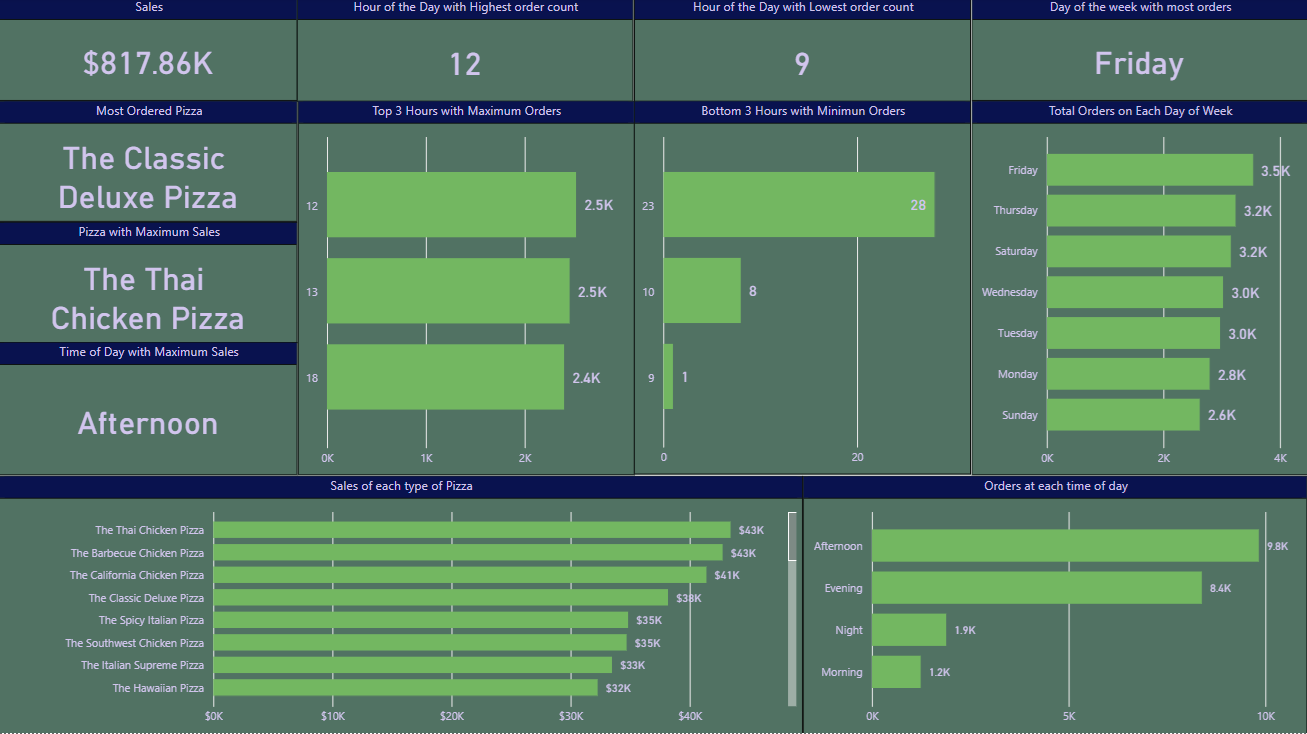

The dashboard page shown, as its layout file describes it:
{"tool":"powerbi","page":{"name":"Sales Analysis of Pizza","canvas":[1280,720],"ordinal":0},"visuals":[{"type":"card","title":"Hour of the Day with Highest order count","fields":{"Values":["orders.High_orders_time"]},"box":[291.1,0,329.6,102],"z":0},{"type":"card","title":"Hour of the Day with Lowest order count","fields":{"Values":["orders.Least_orders_time"]},"box":[620.7,0,329.6,102],"z":1000},{"type":"card","title":"Day of the week with most orders","fields":{"Values":["orders.Most_orders_day"]},"box":[950.9,0,329.3,101.5],"z":2000},{"type":"card","title":"Sales","fields":{"Values":["Sum(order_details.Sales)"]},"box":[0,0,292.3,101.5],"z":3000},{"type":"card","title":"Most Ordered Pizza","fields":{"Values":["order_details.Most_Ordered"]},"box":[0,101.5,292.3,118],"z":4000},{"type":"barChart","title":"Total Orders on Each Day of Week","fields":{"Category":["orders.Day Name"],"Y":["CountNonNull(orders.order_id)"]},"box":[950.9,101.5,329.3,366.4],"z":5000},{"type":"barChart","title":"Bottom 3 Hours with Minimun Orders","fields":{"Category":["orders.Hour"],"Y":["CountNonNull(orders.order_id)"]},"box":[620.7,102,329.6,365.7],"z":6000},{"type":"barChart","title":"Top 3 Hours with Maximum Orders","fields":{"Category":["orders.Hour"],"Y":["CountNonNull(orders.order_id)"]},"box":[292.3,101.5,329.3,366.4],"z":7000},{"type":"card","title":"Pizza with Maximum Sales","fields":{"Values":["order_details.Max_Sales_Pizza"]},"box":[0,219.6,292.3,118],"z":8000},{"type":"barChart","title":"Sales of each type of Pizza","fields":{"Category":["order_details.pizza_types.name"],"Y":["Sum(order_details.Sales)"]},"box":[0,467.9,786.3,252.5],"z":9000},{"type":"barChart","title":"Orders at each time of day","fields":{"Category":["orders.Time_of_day"],"Y":["CountNonNull(orders.order_id)"]},"box":[786.3,467.9,494,252.5],"z":10000},{"type":"card","title":"Time of Day with Maximum Sales","fields":{"Values":["orders.Time_of_Day_with_max_orders"]},"box":[0,337.1,292.3,130.6],"z":11000}]}

Visuals, with their boxes in screenshot pixels (x1, y1, x2, y2), scaled from the page's 1280x720 canvas onto the 1307x734 screenshot:
"Hour of the Day with Highest order count" card: (left=297, top=0, right=634, bottom=104)
"Hour of the Day with Lowest order count" card: (left=634, top=0, right=970, bottom=104)
"Day of the week with most orders" card: (left=971, top=0, right=1306, bottom=103)
"Sales" card: (left=0, top=0, right=298, bottom=103)
"Most Ordered Pizza" card: (left=0, top=103, right=298, bottom=224)
"Total Orders on Each Day of Week" barChart: (left=971, top=103, right=1306, bottom=477)
"Bottom 3 Hours with Minimun Orders" barChart: (left=634, top=104, right=970, bottom=477)
"Top 3 Hours with Maximum Orders" barChart: (left=298, top=103, right=635, bottom=477)
"Pizza with Maximum Sales" card: (left=0, top=224, right=298, bottom=344)
"Sales of each type of Pizza" barChart: (left=0, top=477, right=803, bottom=733)
"Orders at each time of day" barChart: (left=803, top=477, right=1306, bottom=733)
"Time of Day with Maximum Sales" card: (left=0, top=344, right=298, bottom=477)
